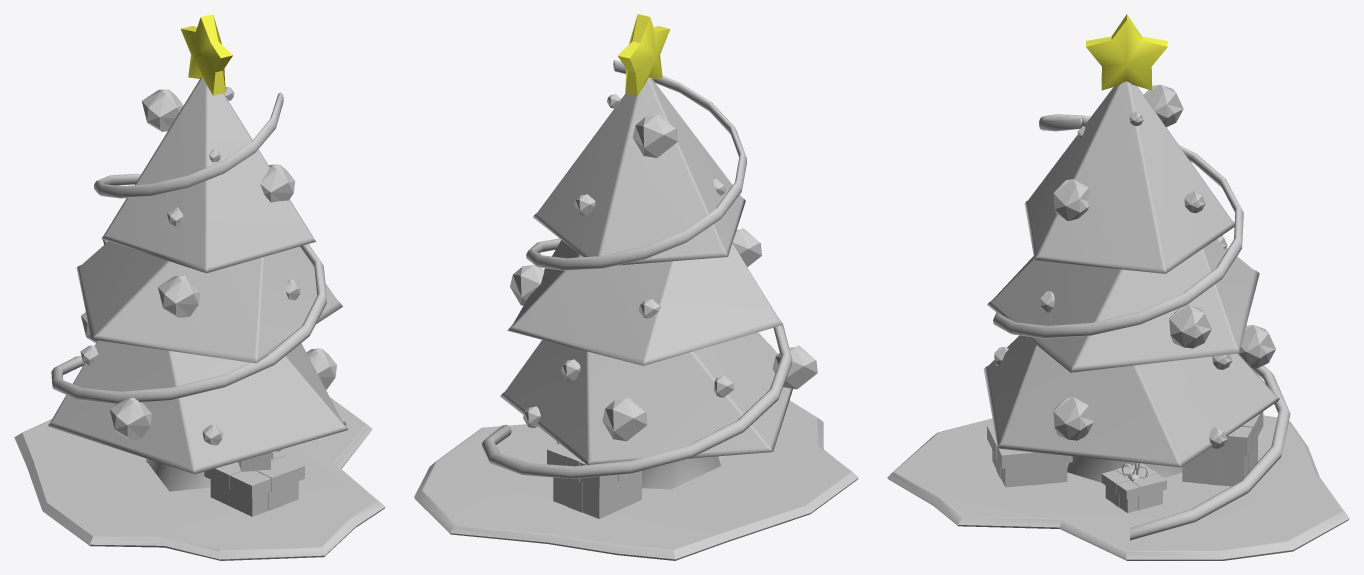
File: sapinNoel.obj
3 views of the same model, side by side, from view 1: azimuth 30°, elevation 25°; view 2: azimuth 150°, elevation 25°; view 3: azimuth 270°, elevation 25° (orthographic).
Visible parts, largest first — view 1: tree, snow, line, boll, present, star; view 2: tree, snow, line, boll, present, star; view 3: tree, snow, line, present, boll, star.
Boxes of the visible parts, x1,y1,x2,y2 form: tree: (48,77,348,491); snow: (14,397,385,560); line: (51,92,345,425); boll: (80,87,336,445); present: (204,449,304,516); star: (181,14,233,95); tree: (500,77,792,489); snow: (414,400,858,560); line: (481,60,792,478); boll: (510,94,817,441); present: (547,441,641,518); star: (617,14,670,95); tree: (983,81,1279,482); snow: (887,415,1349,560); line: (993,114,1290,540); present: (987,411,1263,512); boll: (994,84,1275,448); star: (1086,14,1167,90).
Bounding box in the file's own units: 13.71 × 18.04 × 16.35.
